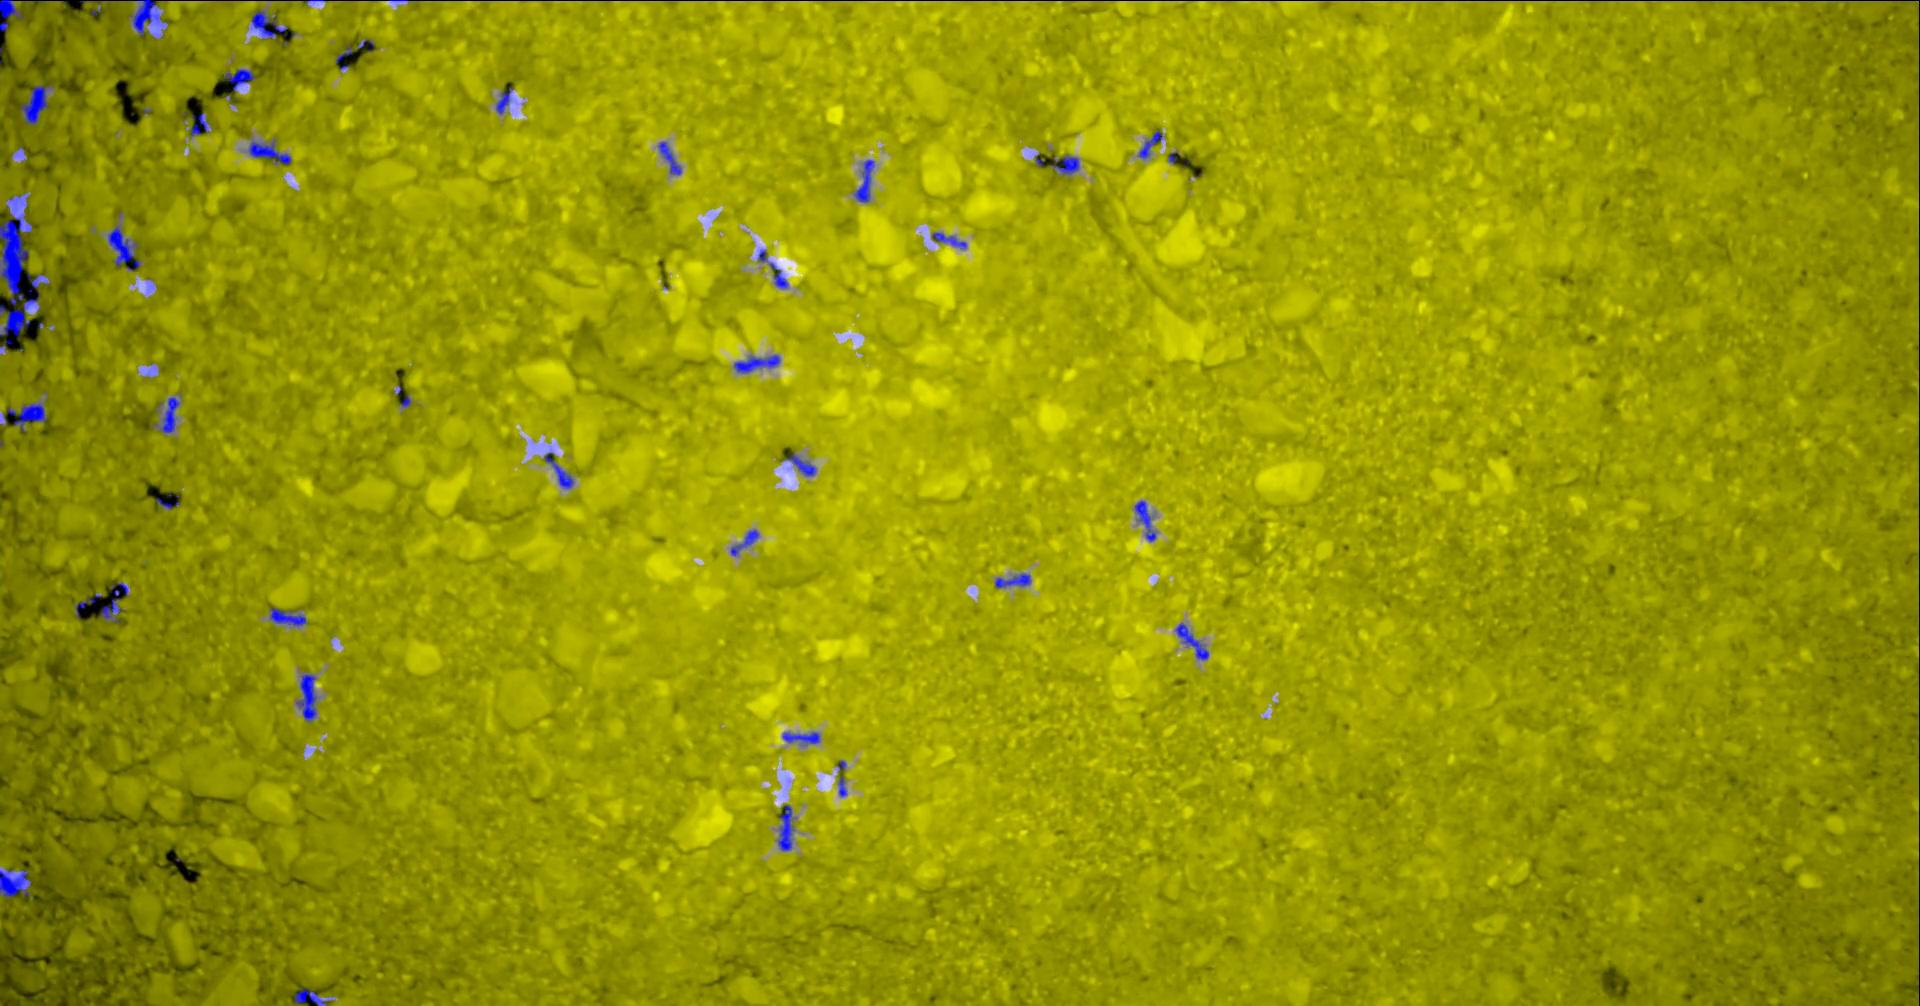ant: (107, 226, 140, 271), (131, 0, 168, 37), (1175, 622, 1208, 659), (20, 84, 50, 124), (100, 582, 127, 622), (8, 403, 46, 431), (295, 673, 316, 721), (251, 9, 287, 38), (543, 452, 573, 488), (248, 140, 290, 164), (853, 159, 874, 202), (1134, 500, 1156, 541), (0, 869, 30, 897), (733, 354, 778, 372), (157, 396, 179, 432), (658, 141, 681, 174), (730, 528, 758, 555), (223, 69, 255, 91), (783, 453, 815, 476), (0, 0, 23, 30), (777, 804, 792, 850), (269, 606, 305, 625), (1138, 130, 1162, 158), (75, 592, 100, 617), (293, 988, 328, 1005), (1048, 155, 1079, 173), (931, 232, 966, 248), (994, 573, 1030, 587), (770, 262, 787, 288), (782, 730, 819, 743), (495, 86, 512, 114), (189, 112, 208, 135), (155, 492, 179, 509), (335, 44, 352, 69), (25, 273, 38, 292), (837, 775, 846, 796)
